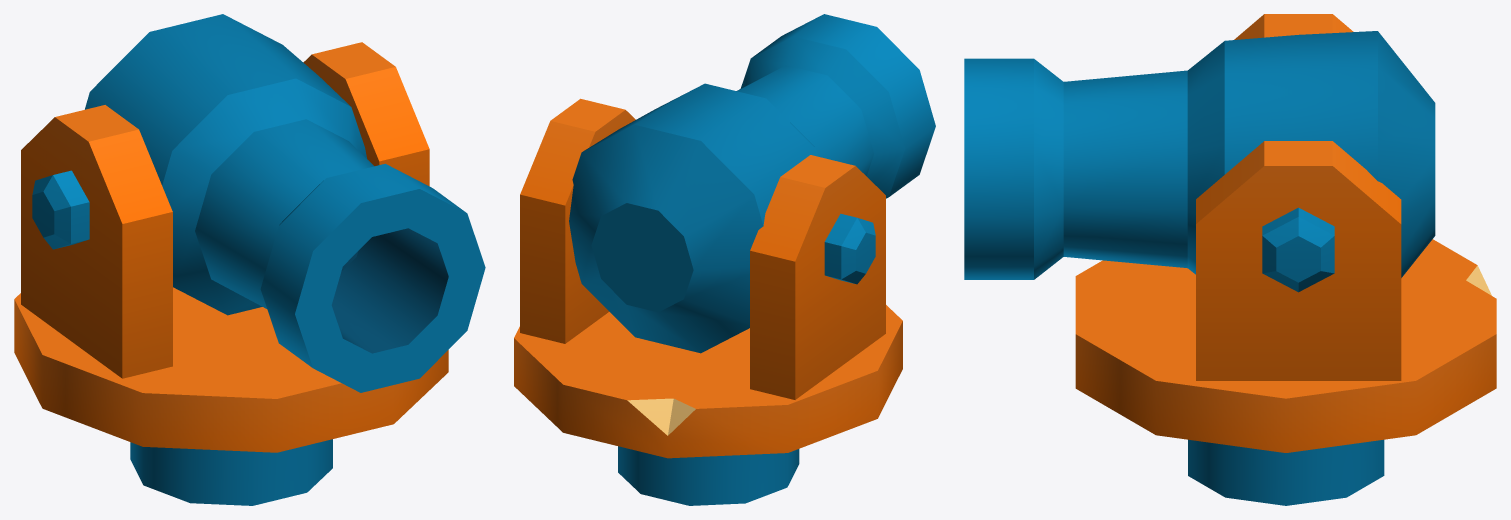
File: Weapon_Cannon_01.fbx
The picture shows the model from 3 angles, left to right: view 1: azimuth 30°, elevation 25°; view 2: azimuth 150°, elevation 25°; view 3: azimuth 270°, elevation 25°; orthographic projection. The views are drawn at different scales.
Parts seen in each view (by area): view 1: Weapon_Cannon_01_Barrel, Weapon_Cannon_01; view 2: Weapon_Cannon_01, Weapon_Cannon_01_Barrel; view 3: Weapon_Cannon_01, Weapon_Cannon_01_Barrel.
Boxes of the visible parts, bbox=[...] form: Weapon_Cannon_01_Barrel: bbox=[32, 14, 485, 392]; Weapon_Cannon_01: bbox=[14, 42, 448, 505]; Weapon_Cannon_01: bbox=[514, 98, 902, 505]; Weapon_Cannon_01_Barrel: bbox=[569, 14, 935, 353]; Weapon_Cannon_01: bbox=[1075, 14, 1496, 505]; Weapon_Cannon_01_Barrel: bbox=[964, 31, 1435, 292].
Size of the model in its own units: 431 by 444 by 518.
